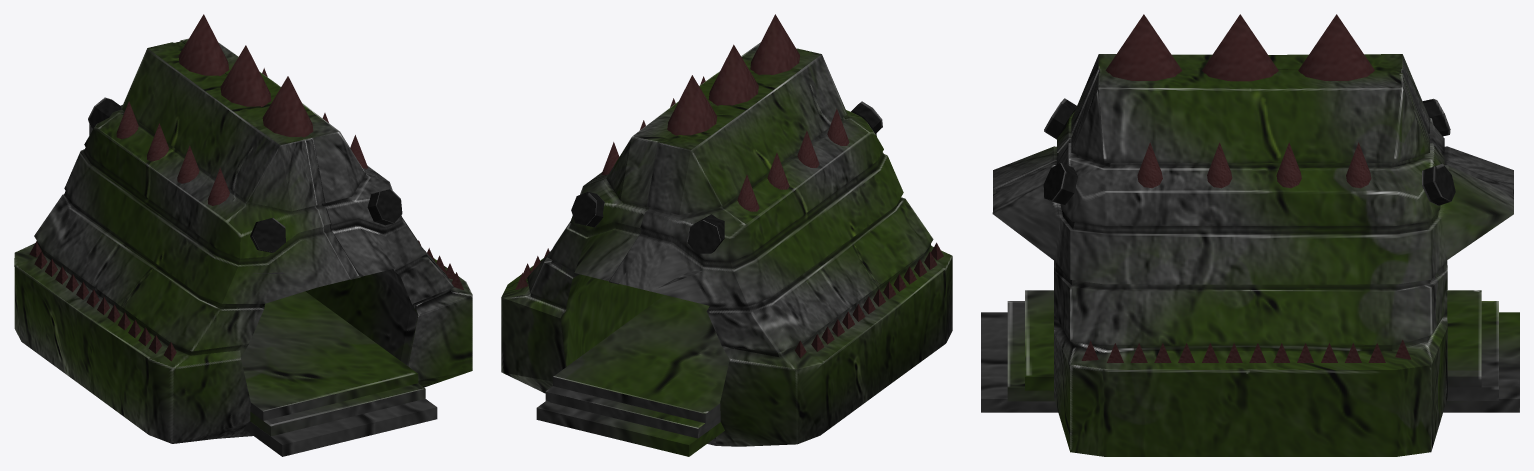
The model's file is Model_Bg_Stonestatue.fbx.
The picture shows the model from 3 angles, left to right: view 1: azimuth 30°, elevation 25°; view 2: azimuth 150°, elevation 25°; view 3: azimuth 270°, elevation 25°; orthographic projection. The views are drawn at different scales.
Visible parts, largest first — view 1: group10; view 2: group10; view 3: group10.
Part boxes in pixels (x1=…): group10: x1=14, y1=14, x2=472, y2=456; group10: x1=501, y1=14, x2=952, y2=456; group10: x1=981, y1=14, x2=1519, y2=456.
Bounding box in the file's own units: 403 × 400 × 512.
